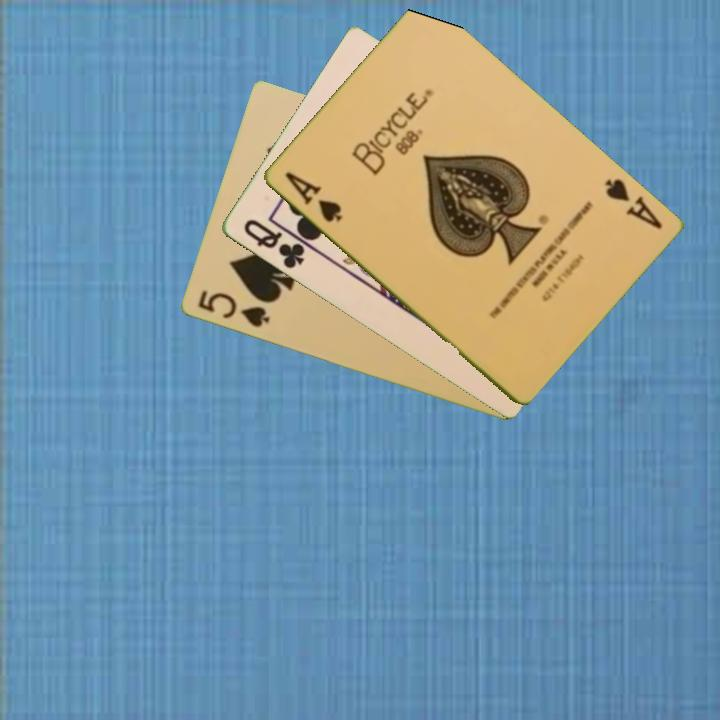5s: (194, 287, 273, 331)
As: (280, 168, 345, 226), (600, 175, 665, 233)
Qc: (239, 215, 307, 272)
